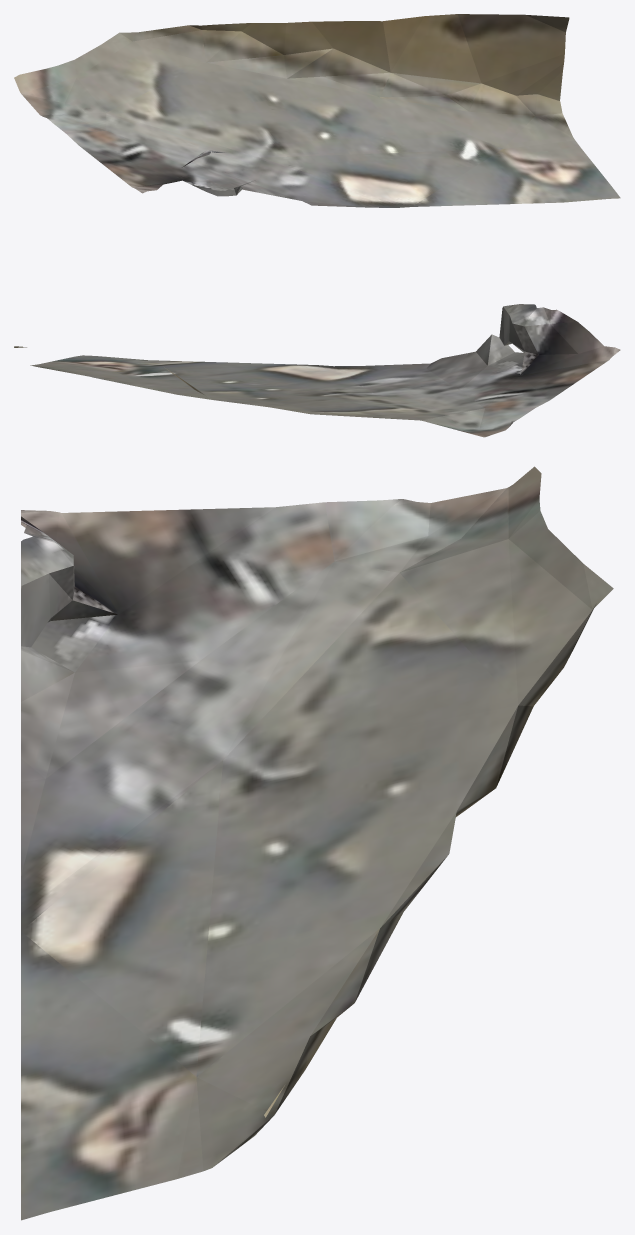
3 views of the same model, one above another, from view 1: azimuth 30°, elevation 25°; view 2: azimuth 150°, elevation 25°; view 3: azimuth 270°, elevation 25° (orthographic). The views are drawn at different scales.
Bounding box in the file's own units: 0.8374 × 0.2398 × 0.4491.
Materials: 2 (2 with a texture image).
